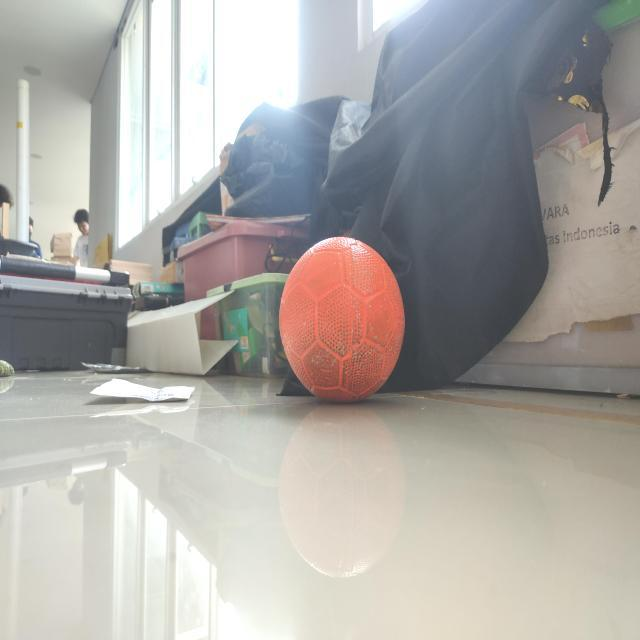bola: (268, 225, 419, 419)
